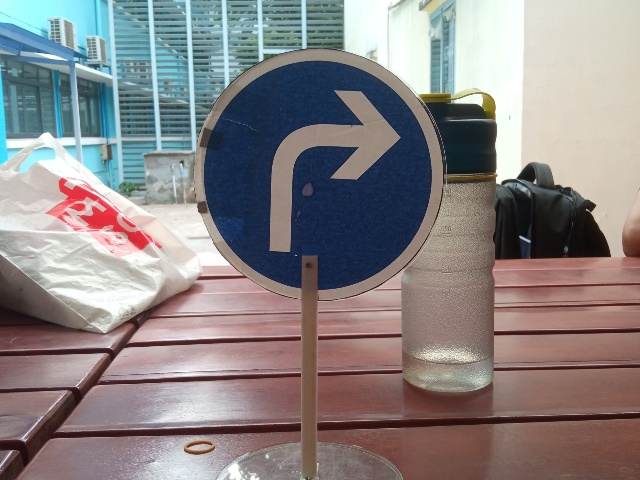Right_Sign: (195, 46, 445, 300)
